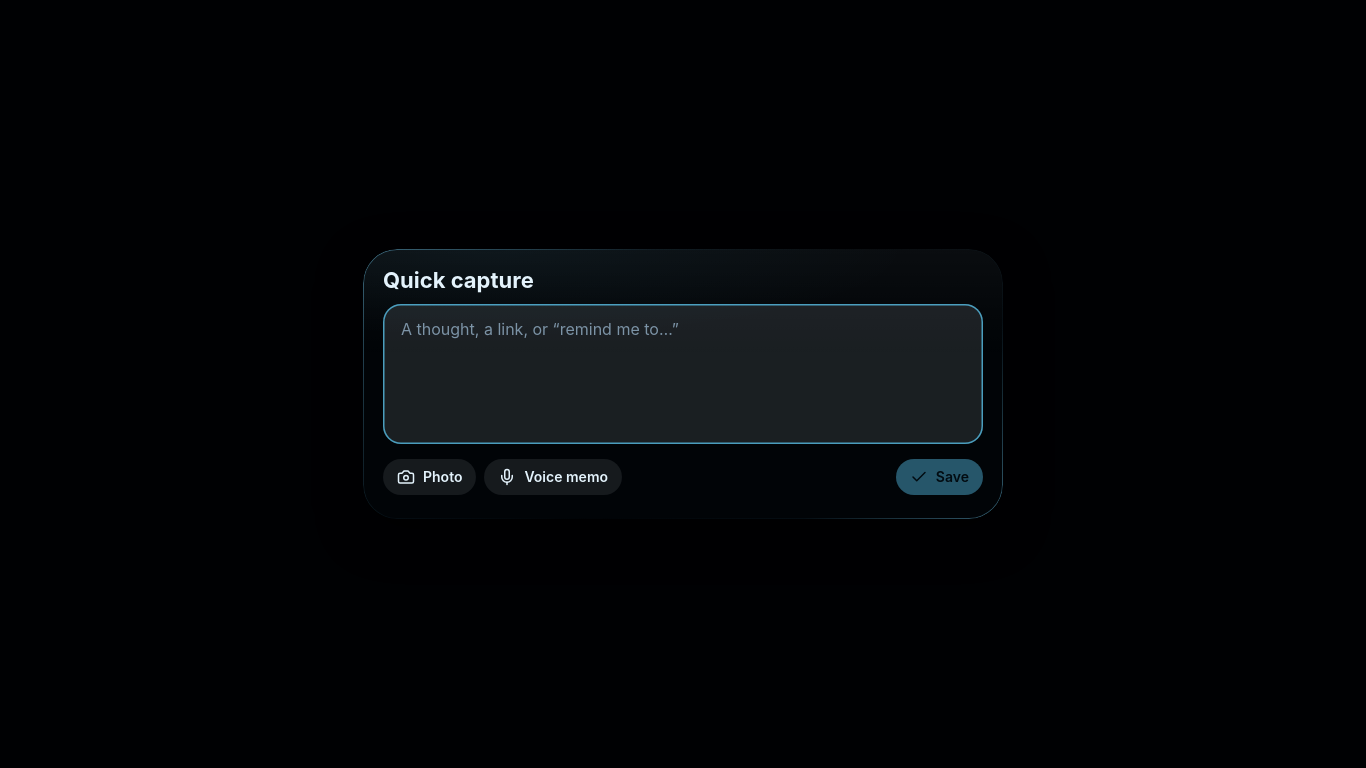
Test: <QuickCapture /> › sends a bare link as a url
Type "https://www.ipwea.org/events" into the text box named "Capture text". click: {"x": 683, "y": 374}
box: [383,304,983,444]
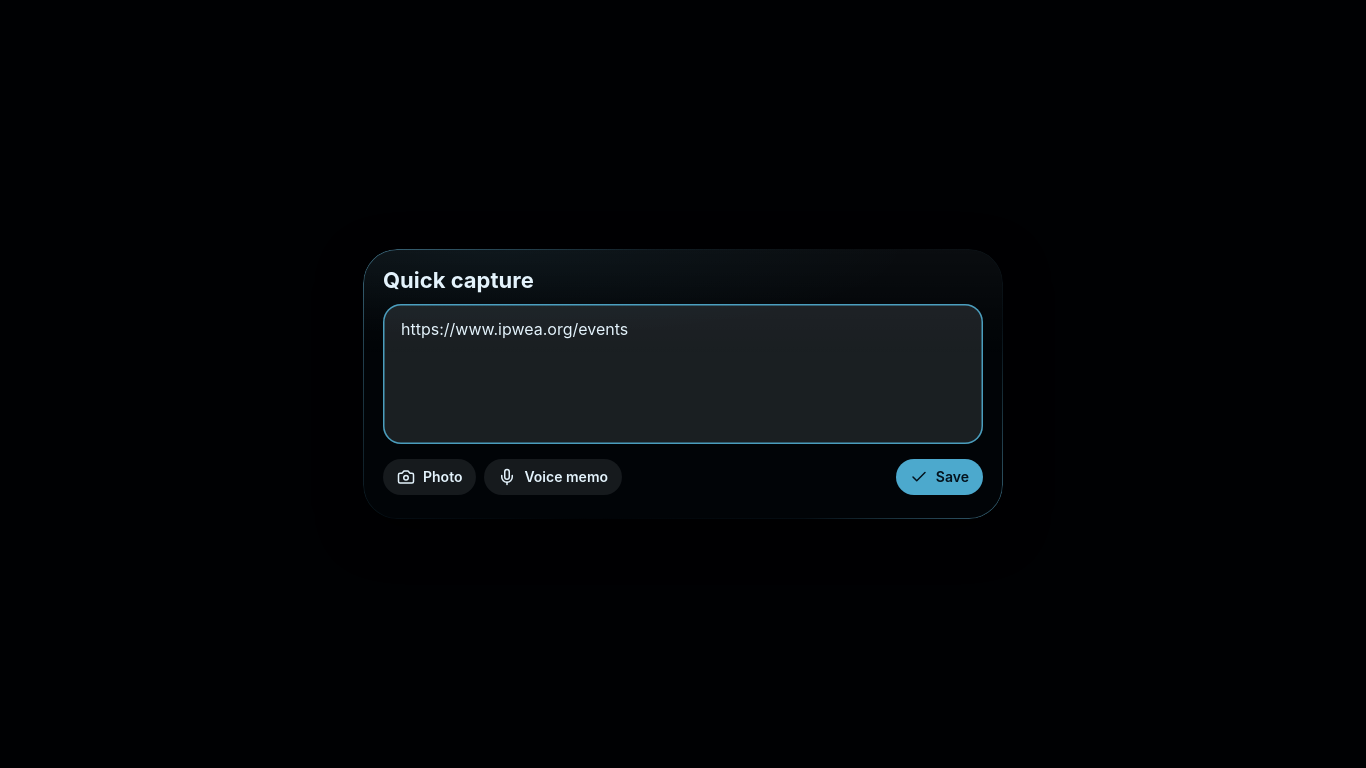
Click the button "Save". click: {"x": 939, "y": 477}
box: [896,459,983,495]
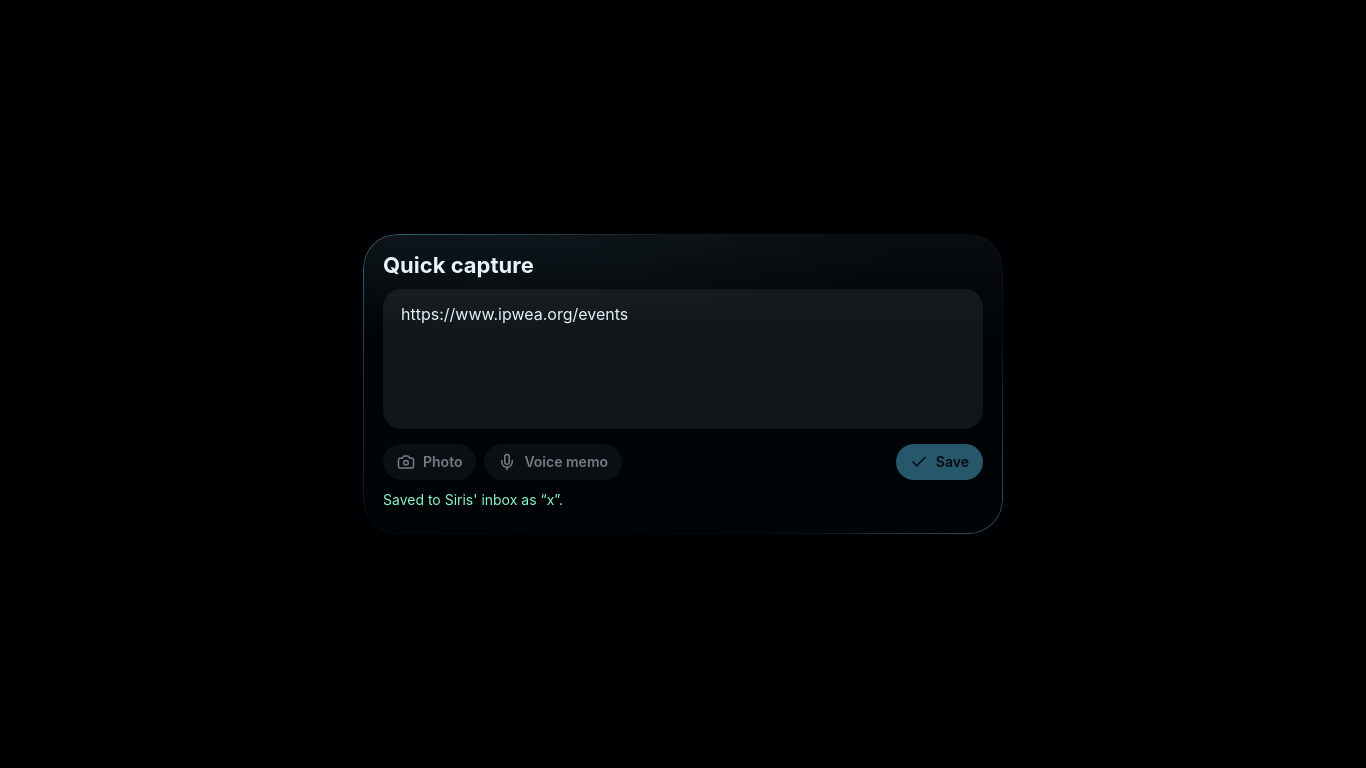
Expected: the message "Saved to Siris' inbox as “x”." is shown, [383,491,563,508]
